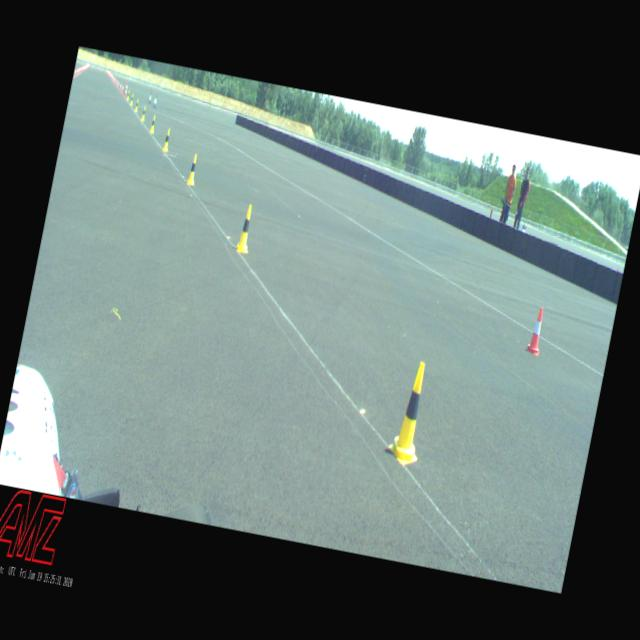large_orange_cone: (123, 82, 129, 96)
orange_cone: (526, 306, 548, 356), (120, 84, 124, 93), (120, 82, 122, 90)
yellow_cone: (386, 358, 436, 466), (235, 203, 258, 254), (187, 152, 200, 185), (162, 128, 172, 152), (150, 114, 158, 134), (140, 105, 148, 121), (134, 98, 140, 112), (126, 90, 131, 101), (130, 94, 134, 105)
